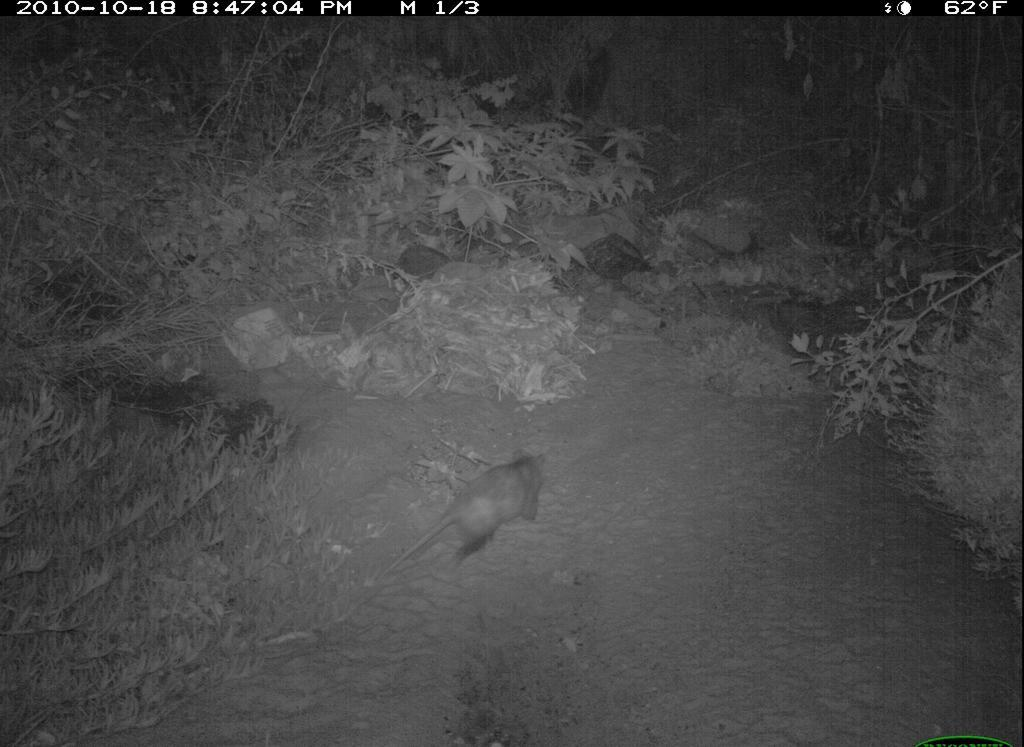opossum: (381, 443, 553, 579)
